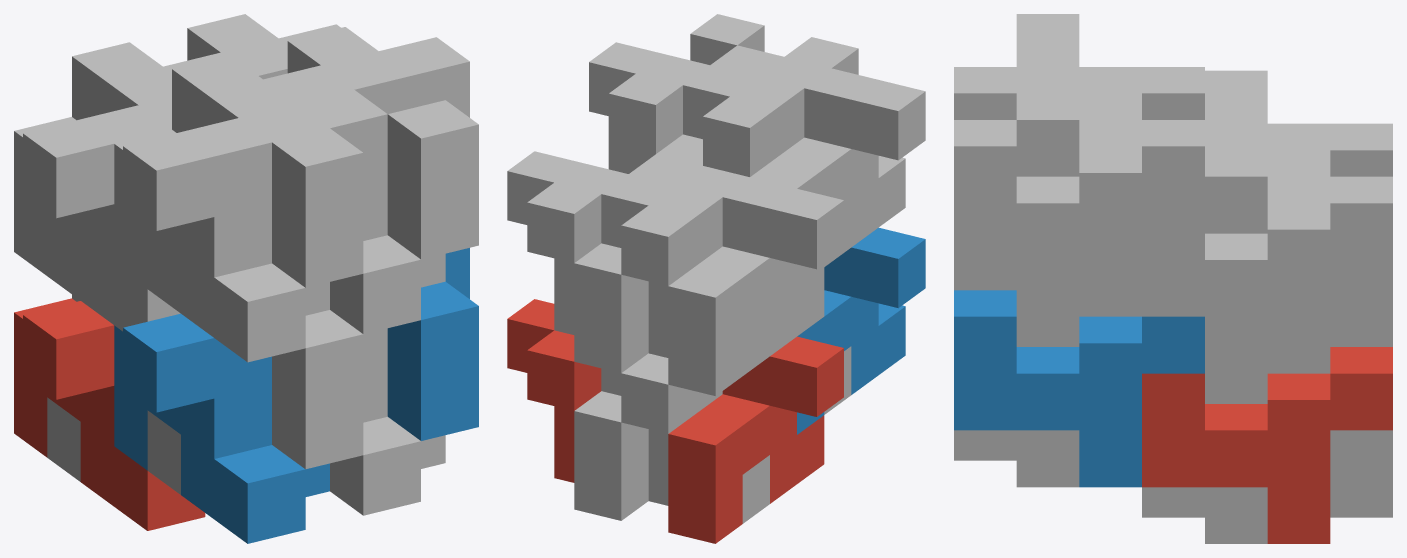
File: tiling.obj
3 renders of one model, left to right at view 1: azimuth 30°, elevation 25°; view 2: azimuth 150°, elevation 25°; view 3: azimuth 270°, elevation 25°, orthographic. The views are drawn at different scales.
Visible parts, largest first — view 1: copy_1_domain_4, copy_1_domain_2, copy_2_domain_4, copy_2_domain_8, copy_1_domain_3, copy_1_domain_1, copy_1_domain_8, copy_2_domain_2, copy_2_domain_6, copy_1_domain_6, copy_2_domain_3, copy_2_domain_7 (+2 smaller); view 2: copy_1_domain_3, copy_1_domain_1, copy_1_domain_4, copy_2_domain_3, copy_2_domain_4, copy_1_domain_2, copy_2_domain_8, copy_2_domain_7, copy_1_domain_7, copy_2_domain_5, copy_1_domain_5, copy_2_domain_1 (+1 smaller); view 3: copy_2_domain_8, copy_2_domain_7, copy_2_domain_5, copy_2_domain_6, copy_1_domain_7, copy_1_domain_5, copy_1_domain_8, copy_2_domain_4, copy_1_domain_6, copy_2_domain_3, copy_1_domain_3, copy_1_domain_4.
Part boxes in pixels (x1,y1,x2,y2): copy_1_domain_4: (114,118,329,362); copy_1_domain_2: (114,313,329,543); copy_2_domain_4: (147,55,363,313); copy_2_domain_8: (287,27,478,259); copy_1_domain_3: (14,105,180,331); copy_1_domain_1: (14,298,205,530); copy_1_domain_8: (239,90,445,333); copy_2_domain_2: (147,310,363,494); copy_2_domain_6: (387,248,478,440); copy_1_domain_6: (330,328,445,515); copy_2_domain_3: (47,42,224,300); copy_2_domain_7: (187,14,340,79); copy_1_domain_3: (668,177,843,395); copy_1_domain_1: (668,336,843,543); copy_1_domain_4: (750,68,925,286); copy_2_domain_3: (601,174,769,375); copy_2_domain_4: (683,37,858,266); copy_1_domain_2: (797,227,925,434); copy_2_domain_8: (589,14,764,154); copy_2_domain_7: (507,143,655,334); copy_1_domain_7: (574,154,749,373); copy_2_domain_5: (507,299,601,482); copy_1_domain_5: (574,391,648,520); copy_2_domain_1: (601,353,769,523); copy_2_domain_8: (954,120,1204,316); copy_2_domain_7: (1142,176,1392,373); copy_2_domain_5: (1142,347,1392,543); copy_2_domain_6: (954,290,1204,487); copy_1_domain_7: (1205,123,1392,373); copy_1_domain_5: (1142,373,1392,543); copy_1_domain_8: (954,67,1079,316); copy_2_domain_4: (954,67,1204,119); copy_1_domain_6: (954,316,1079,487); copy_2_domain_3: (1267,123,1392,176); copy_1_domain_3: (1205,70,1267,123); copy_1_domain_4: (1016,14,1079,66).
Size of the model in its own units: 6 by 7 by 7.
